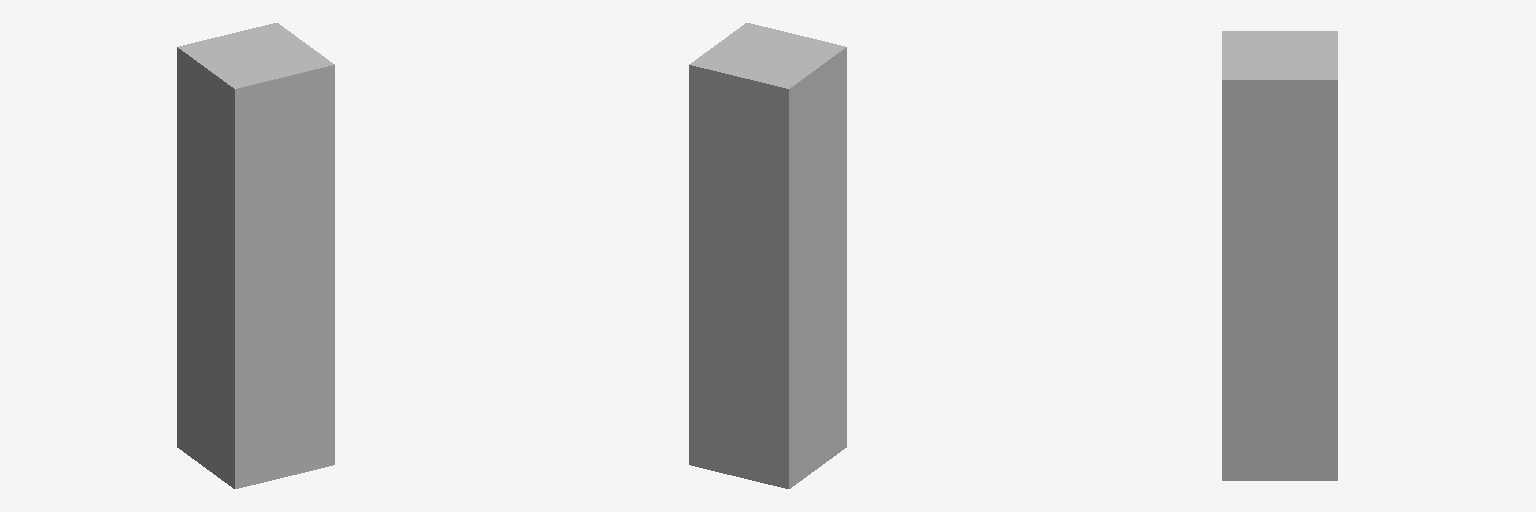
File: Animation_000001.obj
3 views of the same model, side by side, from view 1: azimuth 30°, elevation 25°; view 2: azimuth 150°, elevation 25°; view 3: azimuth 270°, elevation 25° (orthographic).
Visible parts, largest first — view 1: Cube; view 2: Cube; view 3: Cube.
Part boxes in pixels (left/top/right/bottom): Cube: left=177, top=23, right=334, bottom=488; Cube: left=689, top=23, right=846, bottom=488; Cube: left=1222, top=31, right=1337, bottom=480.
Size of the model in its own units: 1.33 by 5.09 by 1.33.